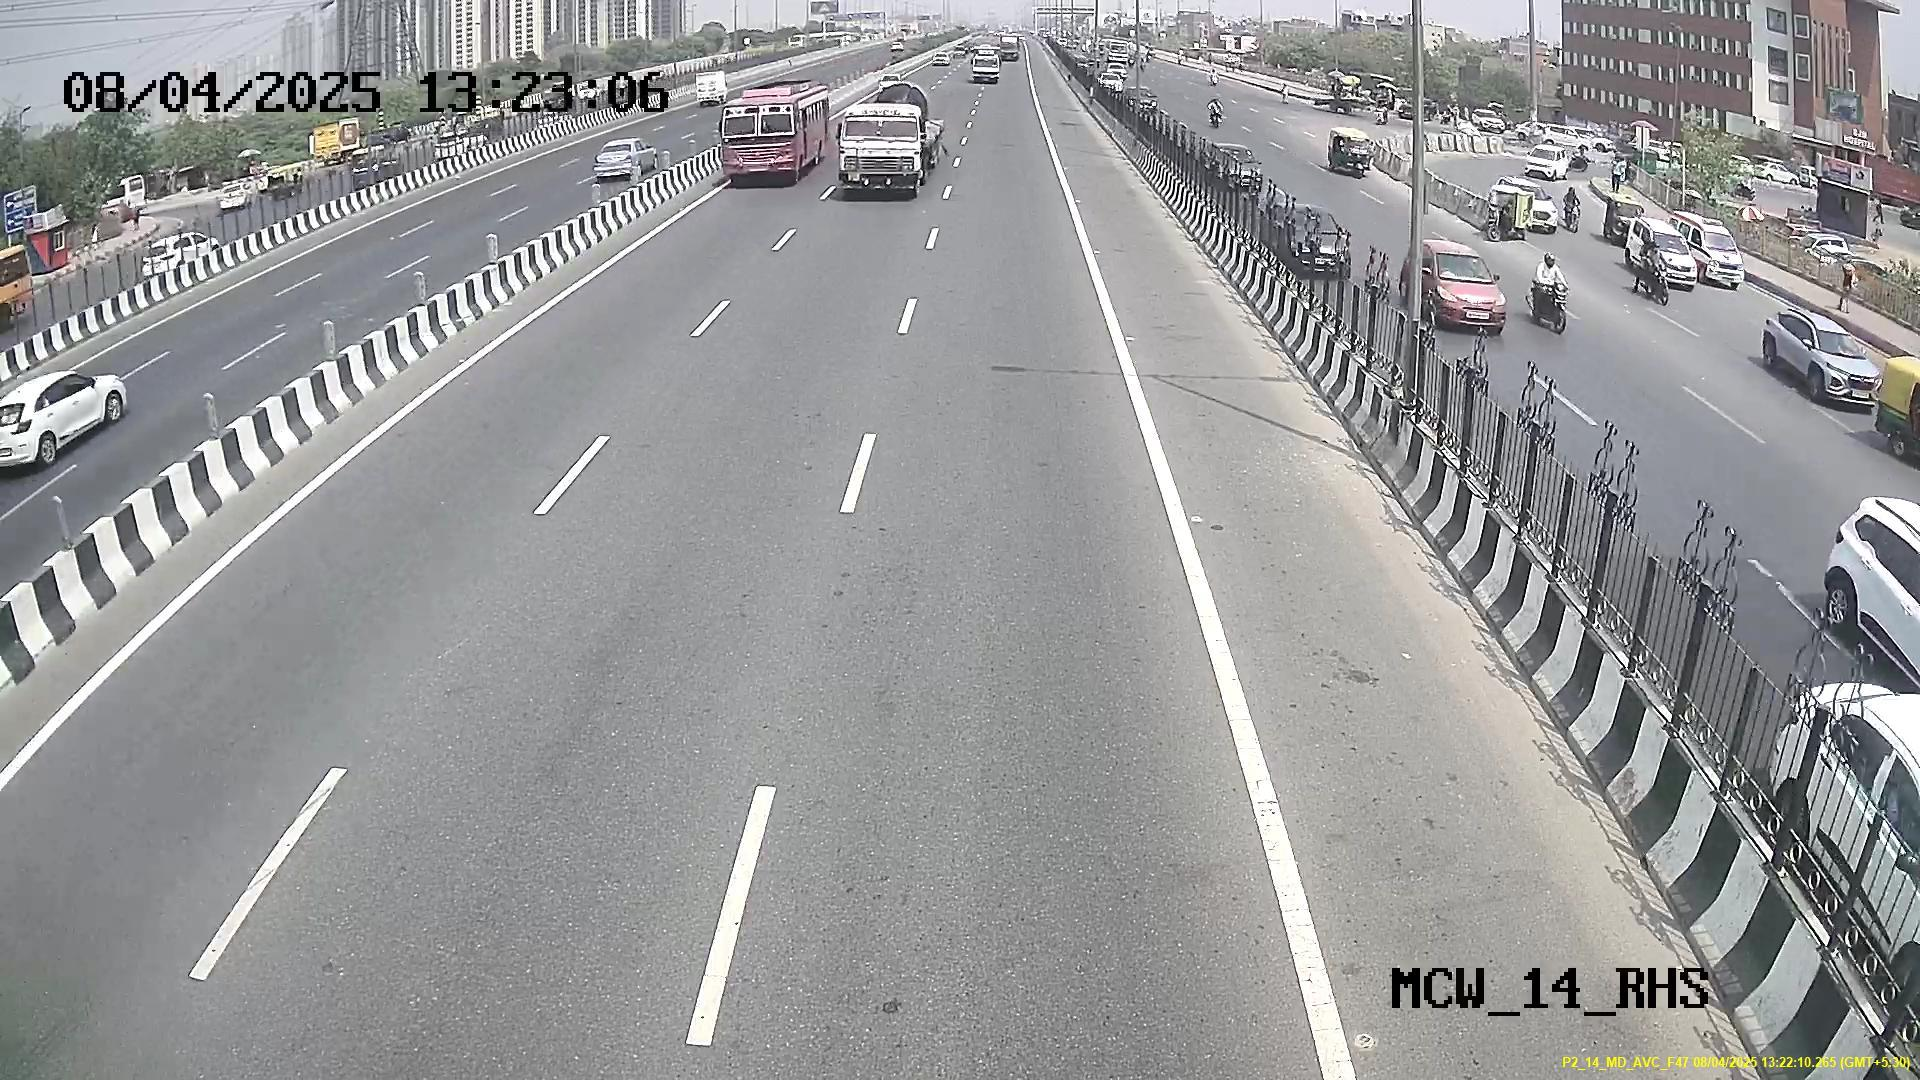bus: (719, 91, 816, 183)
truck: (840, 100, 930, 202)
